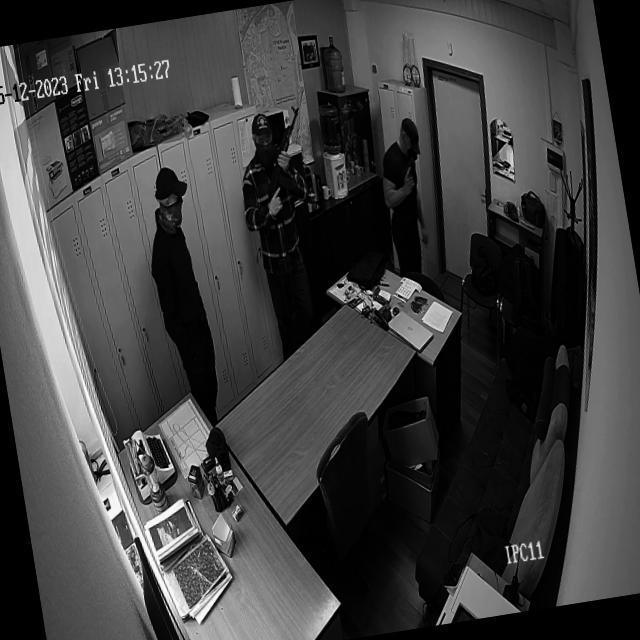gun: (255, 104, 318, 223), (402, 160, 422, 196)
person: (140, 170, 223, 433)
person with a gun: (232, 100, 340, 358), (376, 124, 442, 274)
